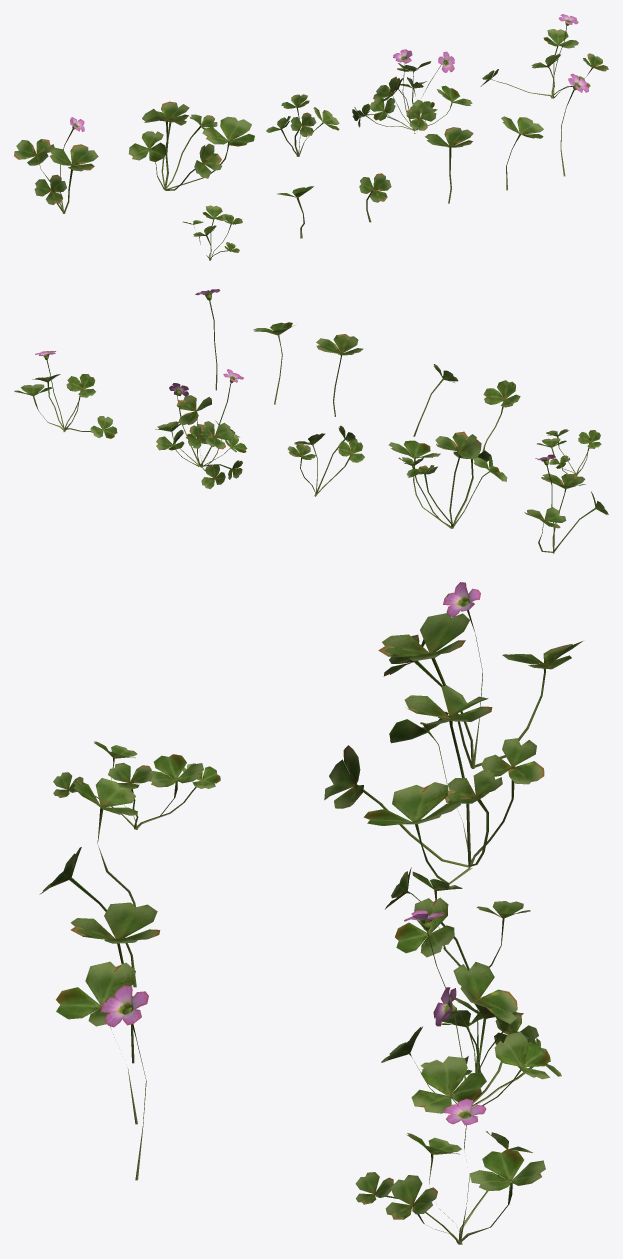
The model's file is shrub_sorrel_01.glb.
The picture shows the model from 3 angles, top to bottom: view 1: azimuth 30°, elevation 25°; view 2: azimuth 150°, elevation 25°; view 3: azimuth 270°, elevation 25°; orthographic projection. The views are drawn at different scales.
Parts seen in each view (by area): view 1: shrub_sorrel_01_k; view 2: shrub_sorrel_01_k; view 3: shrub_sorrel_01_k.
Boxes of the visible parts, x1,y1,x2,y2 form: shrub_sorrel_01_k: (14,14,608,260); shrub_sorrel_01_k: (14,289,608,553); shrub_sorrel_01_k: (39,582,582,1244).
Size of the model in its own units: 0.3521 by 0.058 by 0.1464.
Materials: 1 (1 with a texture image).
